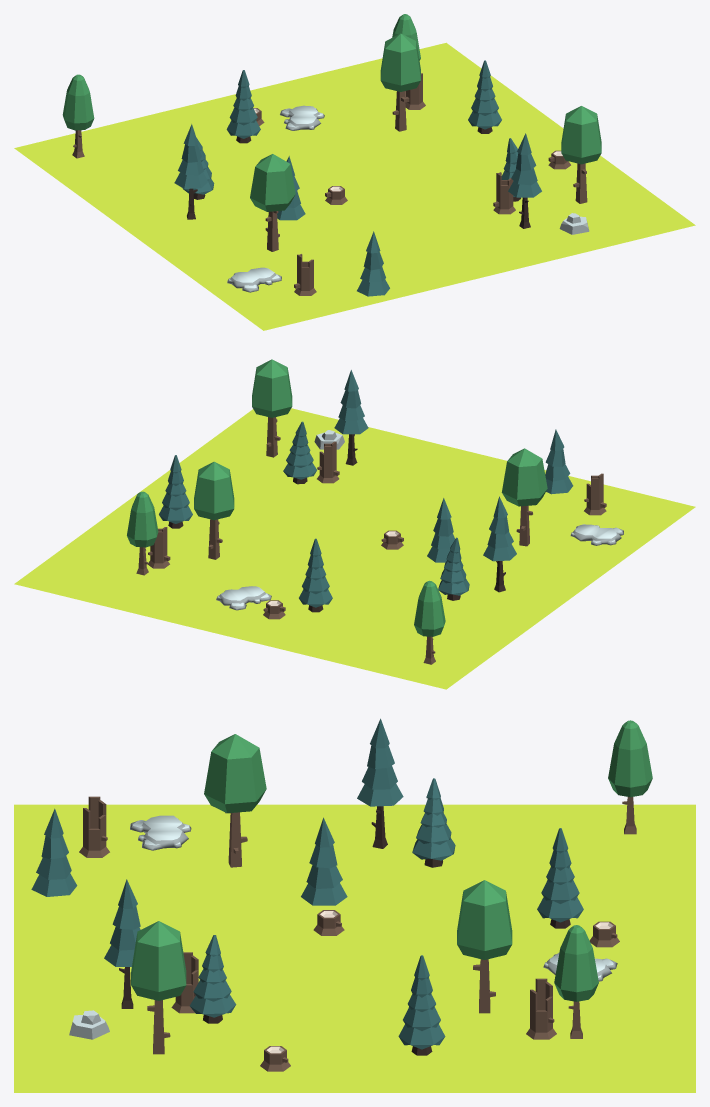
File: Tile_Empty_Base.fbx
3 views of the same model, one above another, from view 1: azimuth 30°, elevation 25°; view 2: azimuth 150°, elevation 25°; view 3: azimuth 270°, elevation 25° (orthographic). The views are drawn at different scales.
Visible parts, largest first — view 1: Plane.010; view 2: Plane.010; view 3: Plane.010.
Boxes of the visible parts, <box> form: Plane.010: <box>14,14,695,330</box>; Plane.010: <box>14,359,695,689</box>; Plane.010: <box>14,718,695,1092</box>.
Size of the model in its own units: 250 by 52.98 by 250.
